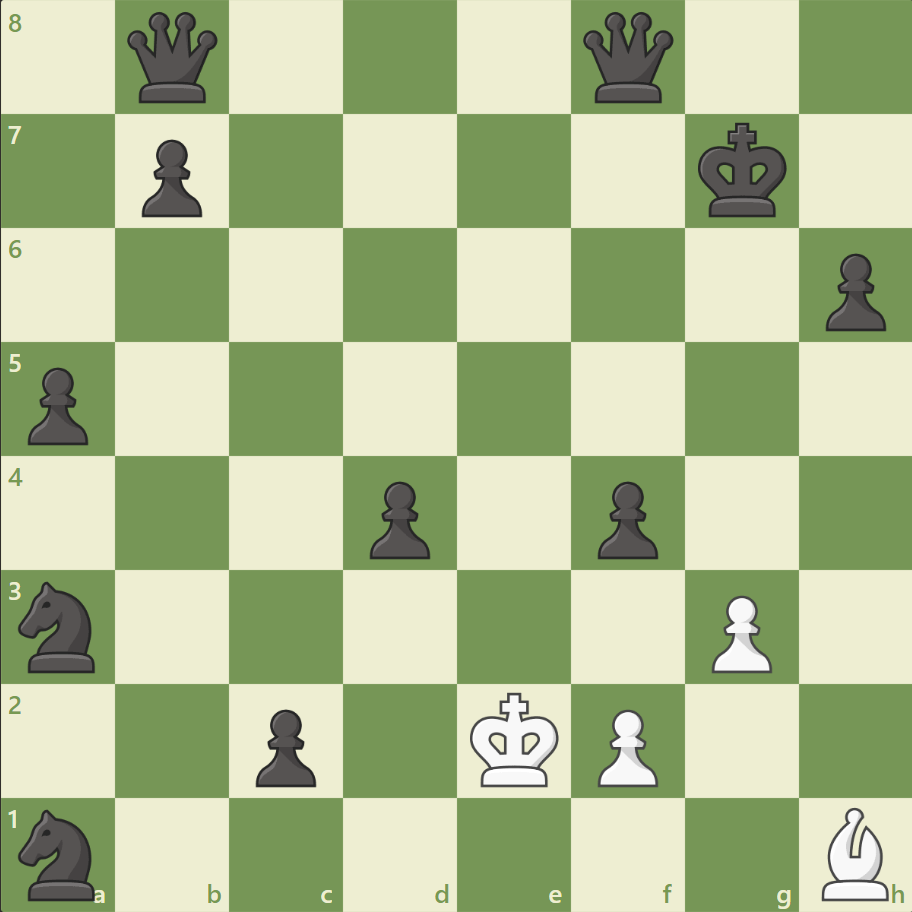B: (812, 801, 896, 904)
K: (465, 685, 565, 793)
P: (701, 586, 776, 677), (588, 700, 662, 791)
k: (692, 117, 792, 225)
n: (11, 575, 108, 677), (11, 802, 108, 904)
p: (133, 132, 208, 223), (20, 359, 95, 450), (247, 700, 322, 791), (815, 246, 889, 337), (361, 473, 435, 564), (588, 473, 662, 564)
q: (124, 9, 223, 108), (578, 9, 677, 108)
